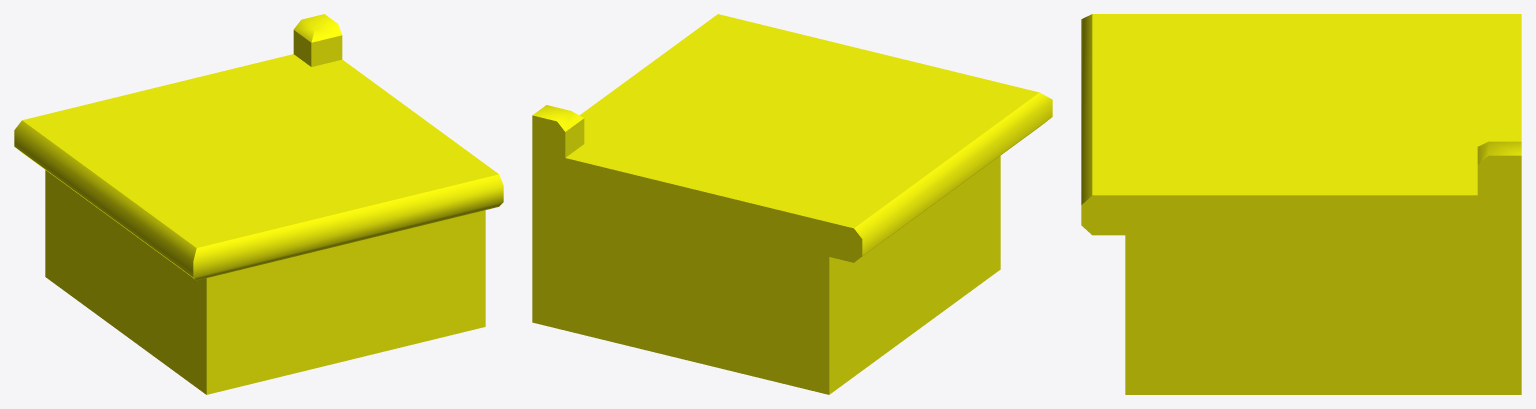
The model's file is kaykit-kitchencounter-outercorner-backsplash.glb.
The picture shows the model from 3 angles, left to right: view 1: azimuth 30°, elevation 25°; view 2: azimuth 150°, elevation 25°; view 3: azimuth 270°, elevation 25°; orthographic projection. The views are drawn at different scales.
Parts seen in each view (by area): view 1: kitchencounter_outercorner_backsplash; view 2: kitchencounter_outercorner_backsplash; view 3: kitchencounter_outercorner_backsplash.
Part boxes in pixels (left/top/right/bottom): kitchencounter_outercorner_backsplash: left=14, top=14, right=503, bottom=394; kitchencounter_outercorner_backsplash: left=532, top=14, right=1052, bottom=394; kitchencounter_outercorner_backsplash: left=1081, top=14, right=1521, bottom=394.
Bounding box in the file's own units: 2 × 1.2 × 2.
